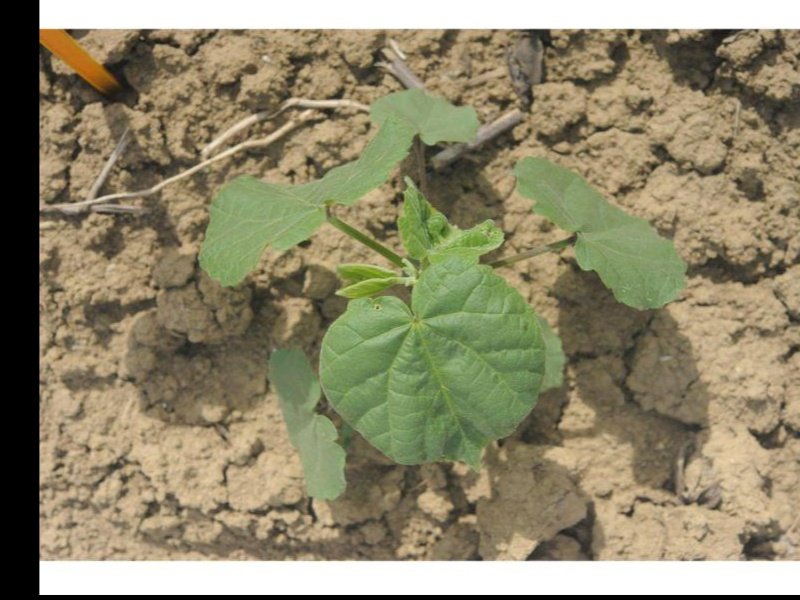velvet: (198, 86, 689, 499)
